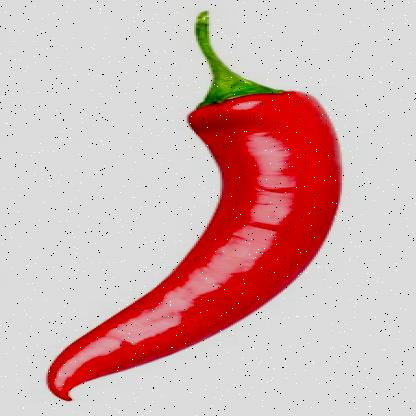chili: (37, 11, 346, 398)
